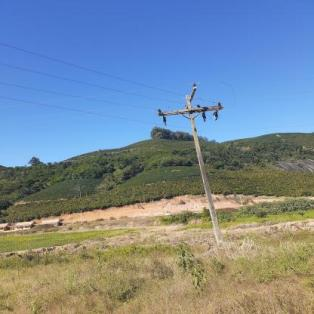Poste: (182, 92, 224, 245)
